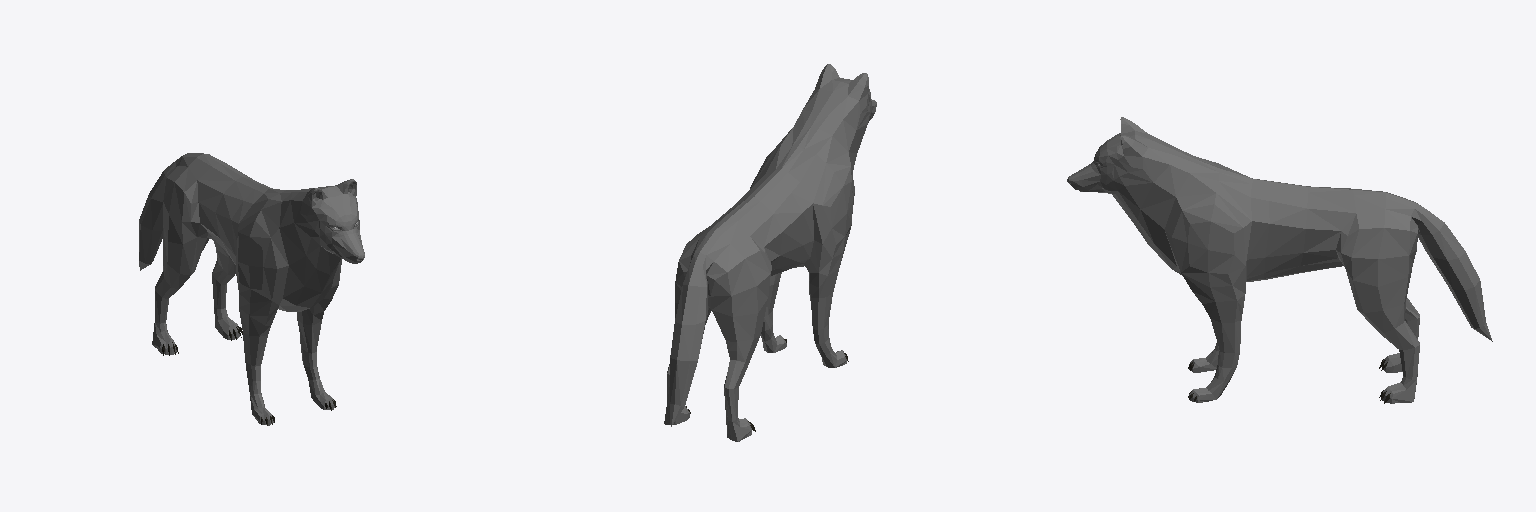
Rendered from Wolf_One_obj.obj.
3 views of the same model, side by side, from view 1: azimuth 30°, elevation 25°; view 2: azimuth 150°, elevation 25°; view 3: azimuth 270°, elevation 25° (orthographic).
Visible parts, largest first — view 1: Wolf_obj_body.004_Cube.007; view 2: Wolf_obj_body.004_Cube.007; view 3: Wolf_obj_body.004_Cube.007.
Part boxes in pixels (x1,y1,x2,y2): Wolf_obj_body.004_Cube.007: (139,153,364,425); Wolf_obj_body.004_Cube.007: (664,64,876,441); Wolf_obj_body.004_Cube.007: (1067,117,1492,403).
Bounding box in the file's own units: 0.2029 × 0.5833 × 0.8697.